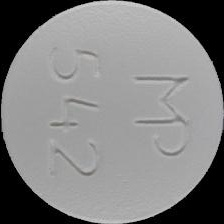53489-328: (0, 0, 224, 224)
